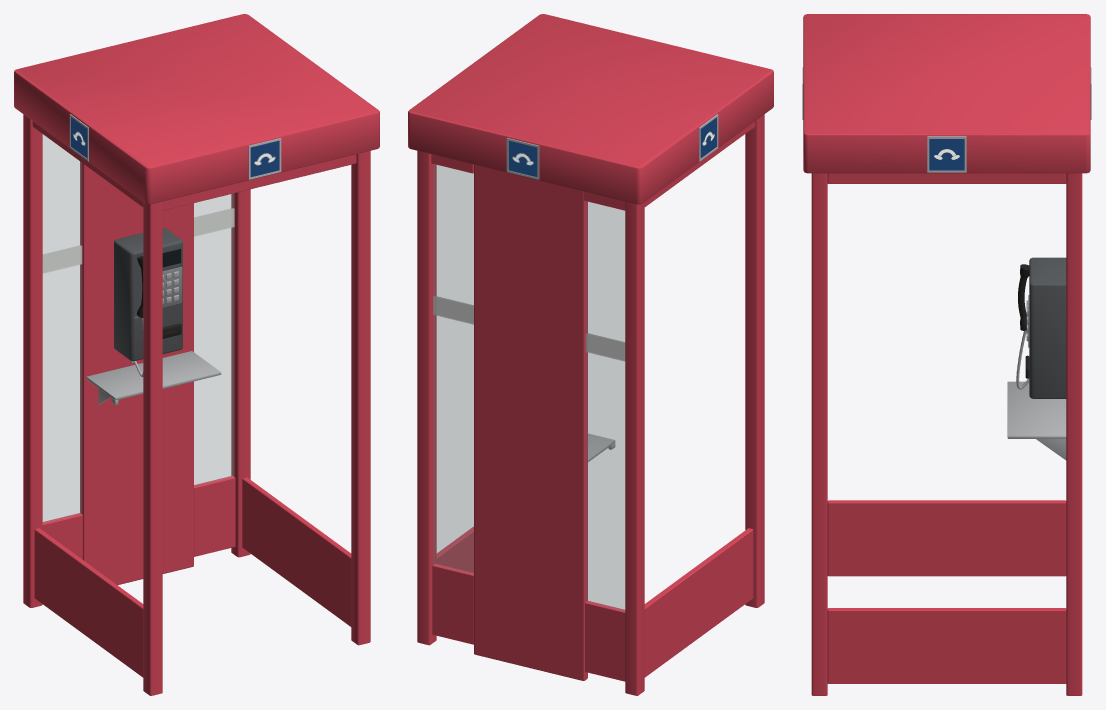
File: phone-booth.glb
3 views of the same model, side by side, from view 1: azimuth 30°, elevation 25°; view 2: azimuth 150°, elevation 25°; view 3: azimuth 270°, elevation 25° (orthographic). The views are drawn at different scales.
Visible parts, largest first — view 1: frame, glass, fixtures, sign; view 2: frame, glass, sign, fixtures; view 3: frame, fixtures, sign.
Boxes of the visible parts, <box> form: frame: <box>14,14,379,695</box>; glass: <box>42,134,234,523</box>; fixtures: <box>69,114,281,404</box>; sign: <box>71,117,279,177</box>; frame: <box>408,14,773,695</box>; glass: <box>433,164,625,610</box>; sign: <box>508,117,716,177</box>; fixtures: <box>506,114,718,461</box>; frame: <box>803,14,1090,695</box>; fixtures: <box>802,67,1091,460</box>; sign: <box>929,139,964,170</box>.
Size of the model in its own units: 1.07 by 2.3 by 1.07.
Materials: 5 (1 with a texture image).
